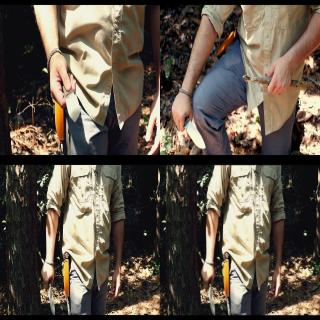knife: (48, 66, 81, 126), (172, 107, 206, 151), (41, 273, 55, 317), (202, 273, 216, 317)
